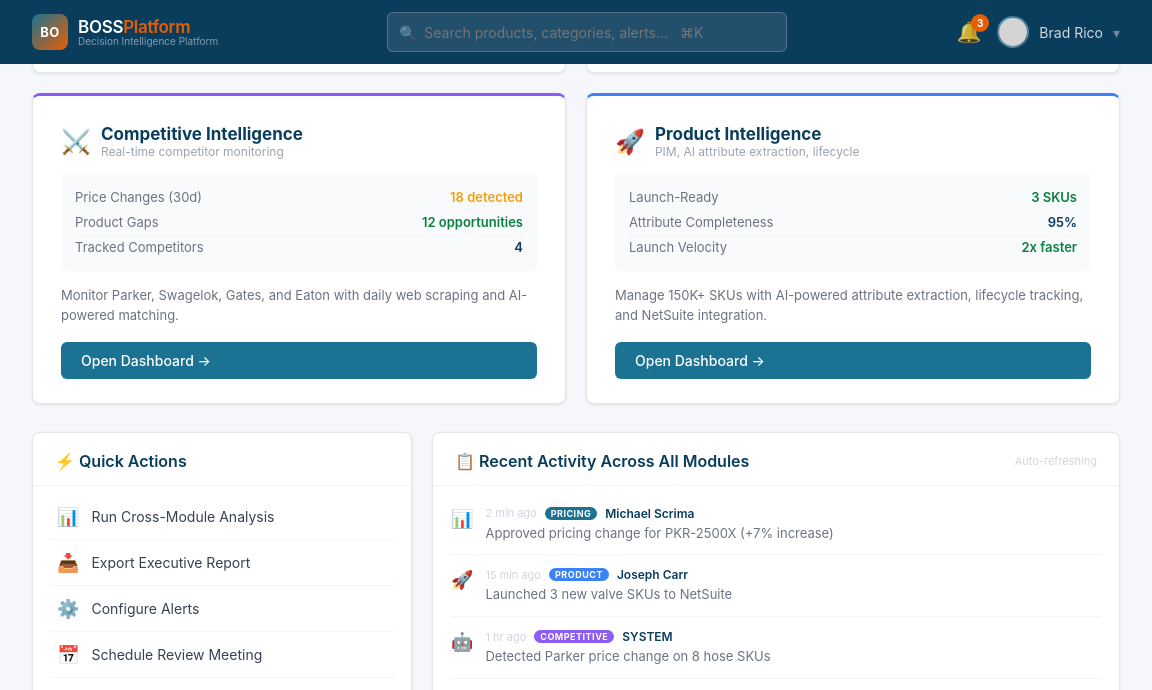
Scenario: Home Screen Navigation › navigates to Product Intelligence
The width and height of the screenshot is (1152, 690).
(page scrolled)
What coordinates should you click on to do the following:
click the button "Open Dashboard →" below "Launch Velocity"
I would click on:
 (700, 360)
Its box is [615,342,1091,379].
(page scrolled)
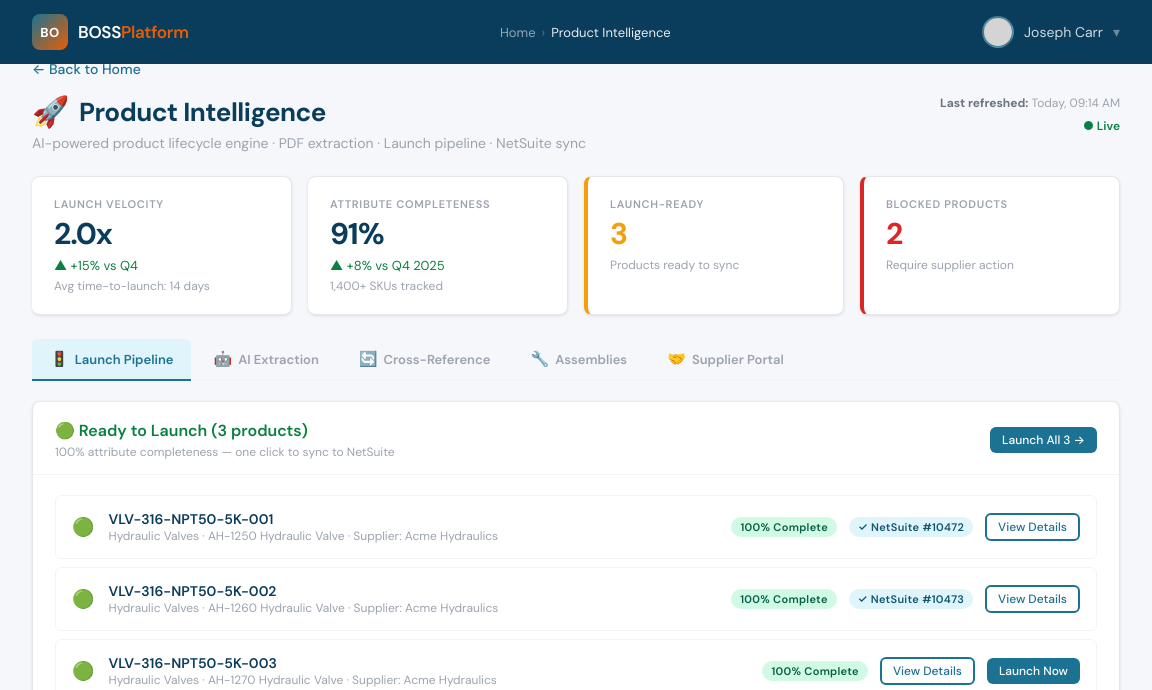
Expected: the button "🚦 Launch Pipeline" is shown, [32,339,192,381]
